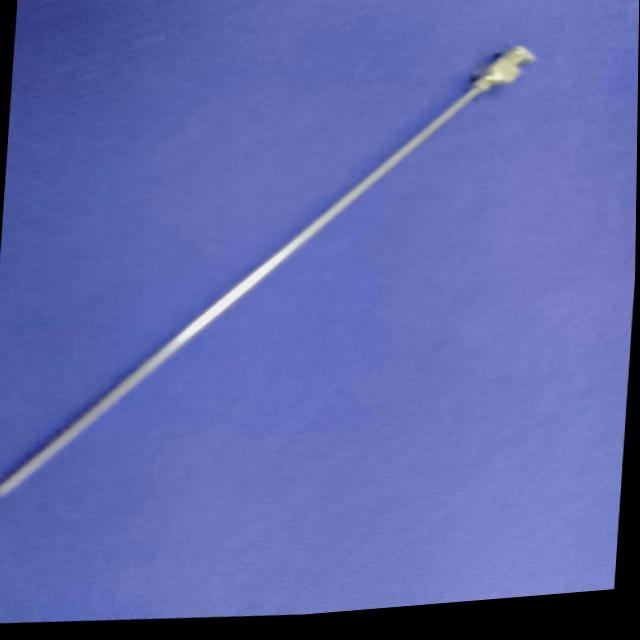Infectious: (469, 43, 536, 90)
Sharps: (0, 42, 536, 497)
